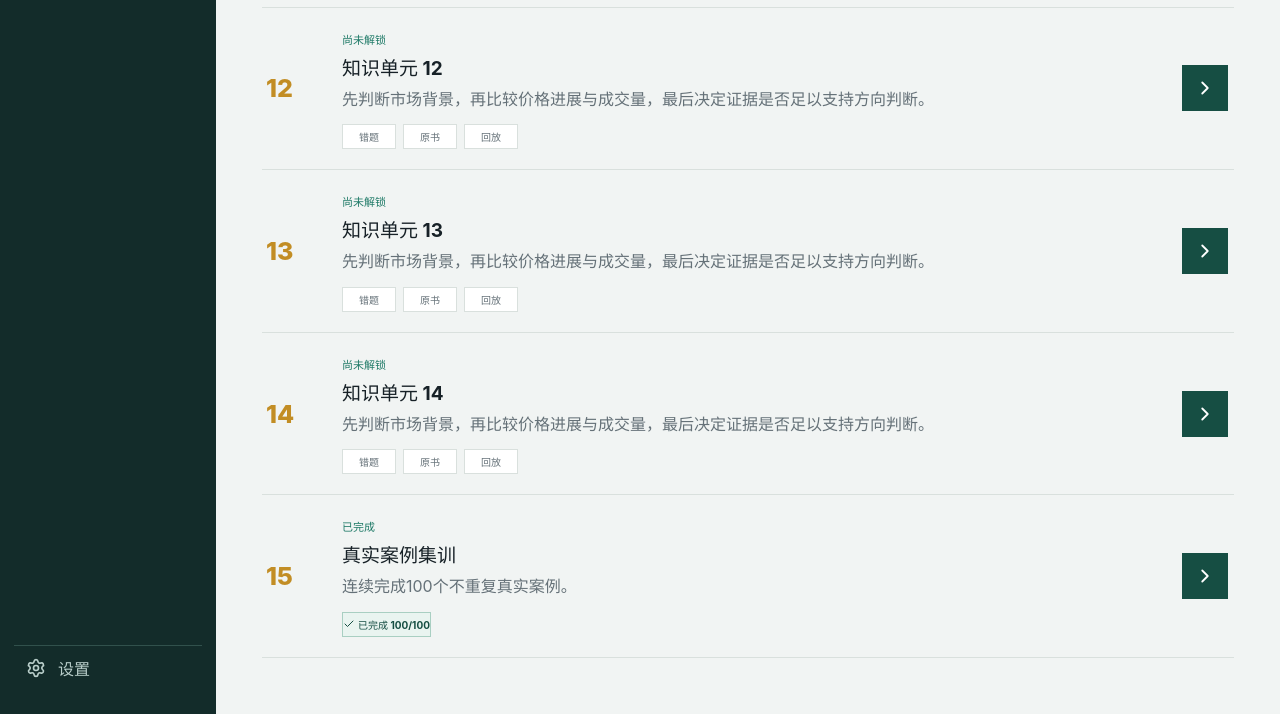
Test: AppContent › reopens completed case training without discarding its saved history
(page scrolled)
Click the button named "查看完成 真实案例集训" at (1205, 576), box top-left (1182, 553), bottom-right (1228, 599)
(page scrolled)
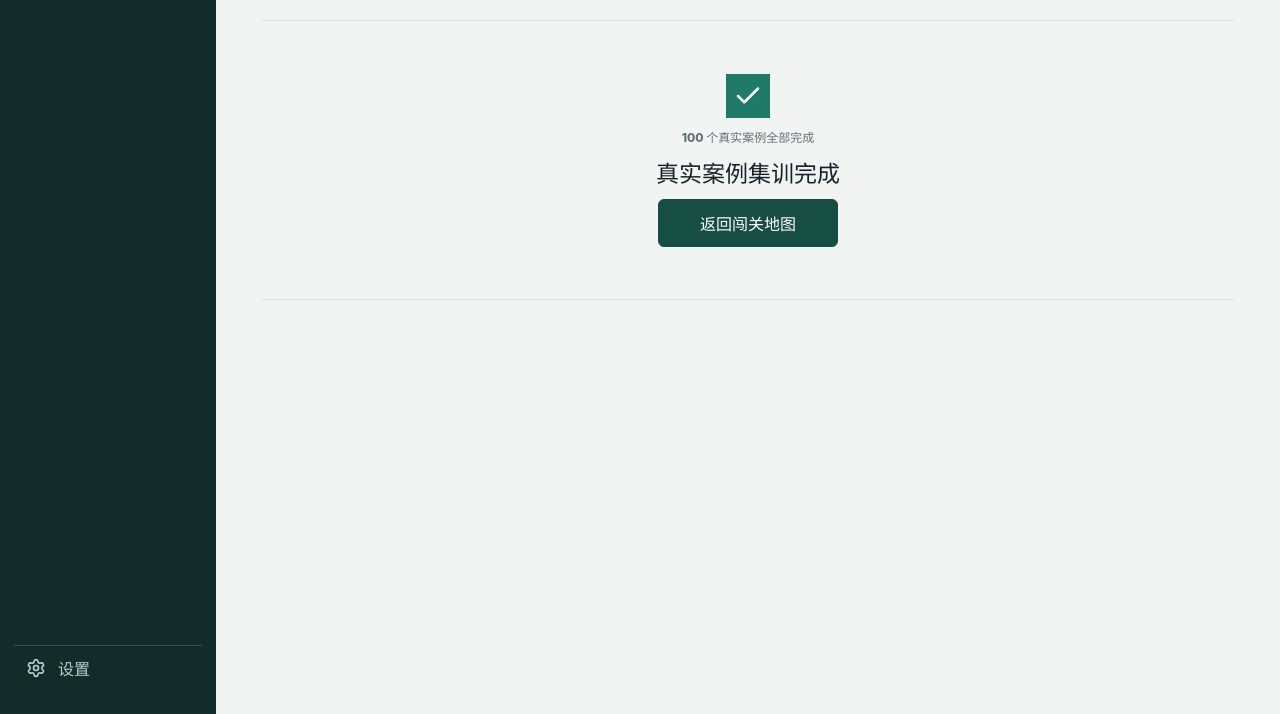
expect the heading "真实案例集训完成" is shown: met, box top-left (656, 154), bottom-right (840, 188)
